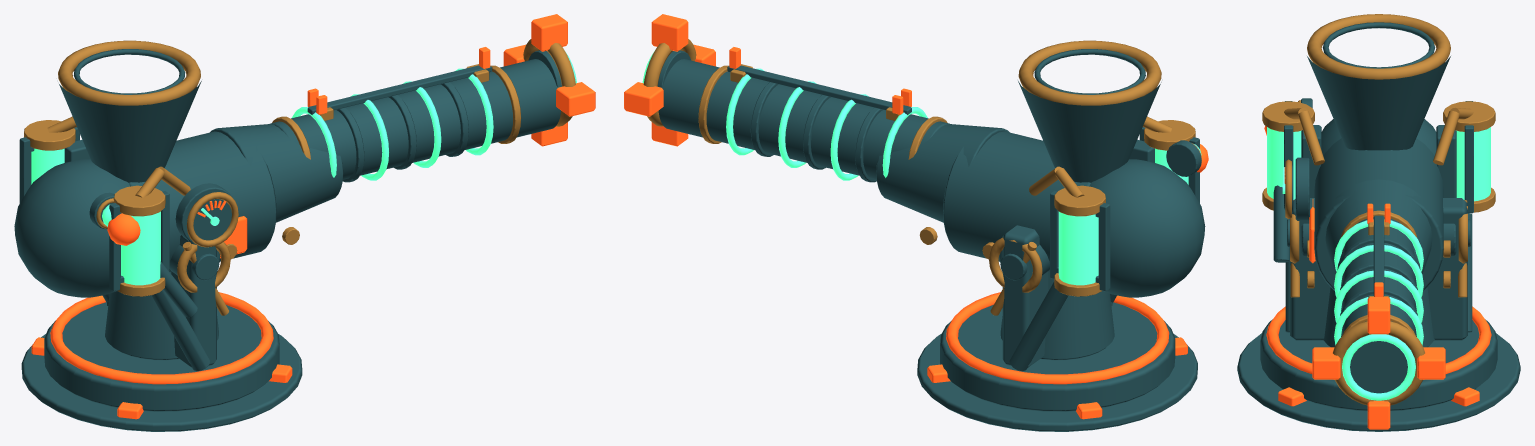
File: slop-cannon.glb
3 renders of one model, left to right at view 1: azimuth 30°, elevation 25°; view 2: azimuth 150°, elevation 25°; view 3: azimuth 270°, elevation 25°, orthographic.
Visible parts, largest first — view 1: CannonRecoilRender, CannonRootRender, CannonYawRender, CANNON_V3_AmmoGlowMesh, CANNON_V3_ChargeGlowMesh; view 2: CannonRecoilRender, CannonRootRender, CannonYawRender, CANNON_V3_AmmoGlowMesh, CANNON_V3_ChargeGlowMesh; view 3: CannonRecoilRender, CannonRootRender, CannonYawRender, CANNON_V3_ChargeGlowMesh, CANNON_V3_AmmoGlowMesh, CANNON_V3_MuzzleGlowMesh.
Boxes of the visible parts, x1=… form: CannonRecoilRender: x1=14, y1=14, x2=595, y2=317; CannonRootRender: x1=21, y1=271, x2=302, y2=431; CannonYawRender: x1=102, y1=235, x2=230, y2=371; CANNON_V3_AmmoGlowMesh: x1=31, y1=148, x2=160, y2=285; CANNON_V3_ChargeGlowMesh: x1=292, y1=68, x2=493, y2=180; CannonRecoilRender: x1=624, y1=14, x2=1208, y2=297; CannonRootRender: x1=917, y1=271, x2=1197, y2=431; CannonYawRender: x1=989, y1=225, x2=1116, y2=371; CANNON_V3_AmmoGlowMesh: x1=1058, y1=148, x2=1188, y2=285; CANNON_V3_ChargeGlowMesh: x1=726, y1=68, x2=927, y2=180; CannonRecoilRender: x1=1262, y1=14, x2=1495, y2=429; CannonRootRender: x1=1237, y1=287, x2=1520, y2=431; CannonYawRender: x1=1285, y1=198, x2=1472, y2=341; CANNON_V3_ChargeGlowMesh: x1=1334, y1=220, x2=1423, y2=345; CANNON_V3_AmmoGlowMesh: x1=1267, y1=127, x2=1490, y2=201; CANNON_V3_MuzzleGlowMesh: x1=1342, y1=334, x2=1415, y2=400.
Size of the model in its own units: 4.66 by 2.59 by 2.1.
